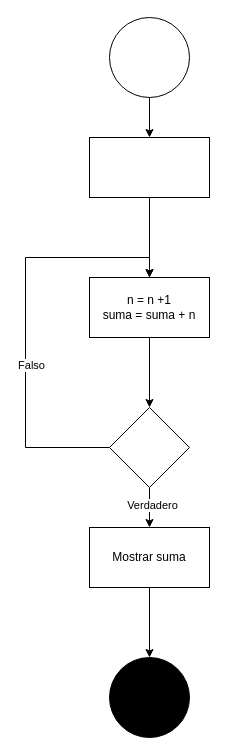
This 227x755 diagram has some shape labels left out. Each missing label, with the centre of its shape:
"n = 0 como entero suma = 0 como entero" belongs at pixel 149 167.
"n = 10" belongs at pixel 149 447.
